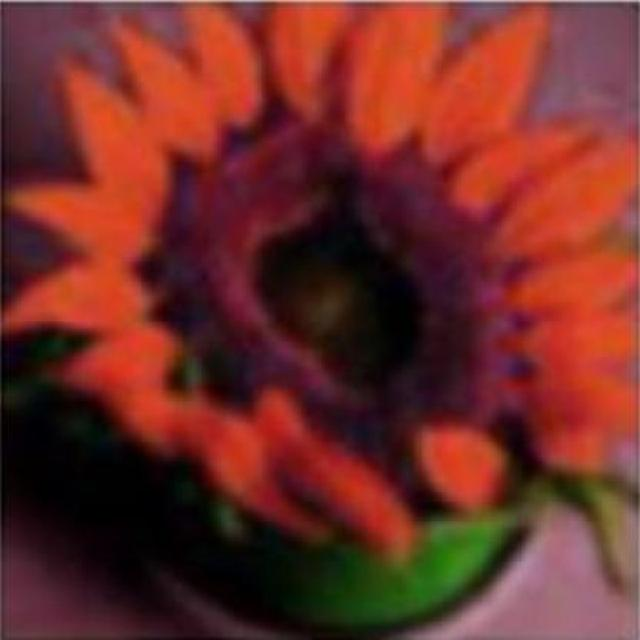sunflower: (6, 0, 640, 542)
